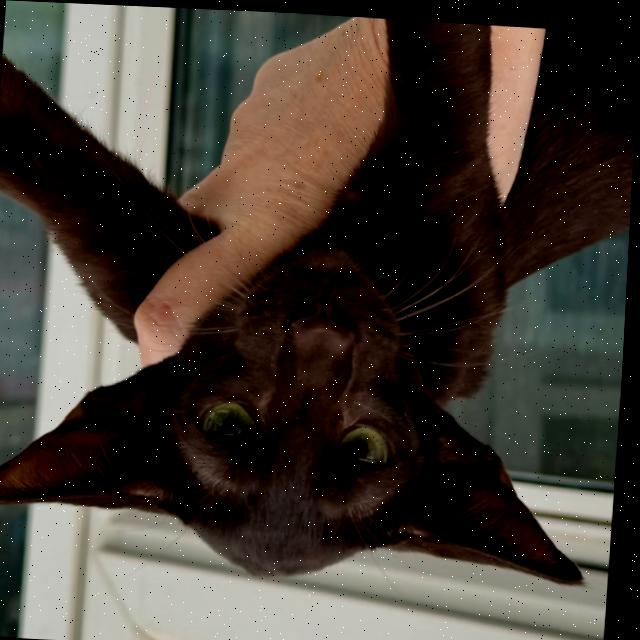Oriental: (0, 0, 640, 597)
